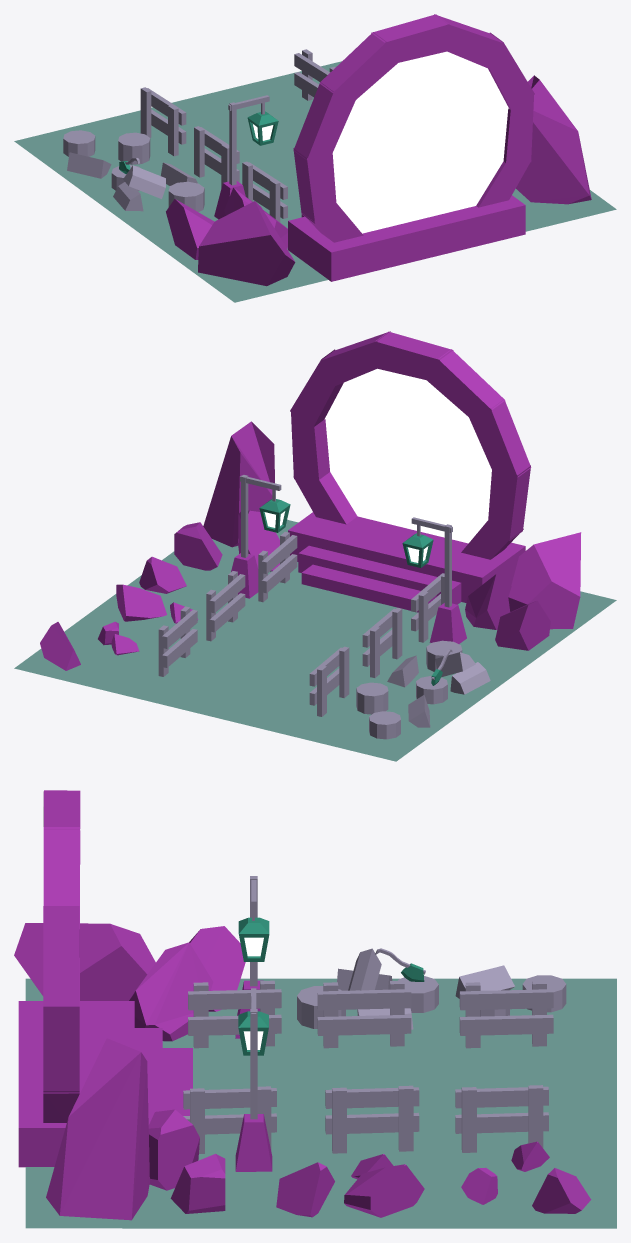
Rendered from portal-compressed.glb.
The picture shows the model from 3 angles, top to bottom: view 1: azimuth 30°, elevation 25°; view 2: azimuth 150°, elevation 25°; view 3: azimuth 270°, elevation 25°; orthographic projection. The views are drawn at different scales.
Visible parts, largest first — view 1: baked, PortalLight; view 2: baked, PortalLight; view 3: baked.
Part boxes in pixels (left/top/right/bottom): baked: left=14, top=14, right=616, bottom=302; PortalLight: left=332, top=51, right=508, bottom=233; baked: left=14, top=331, right=616, bottom=761; PortalLight: left=324, top=368, right=491, bottom=543; baked: left=14, top=790, right=616, bottom=1228.
Size of the model in its own units: 4 by 2.24 by 4.08.
